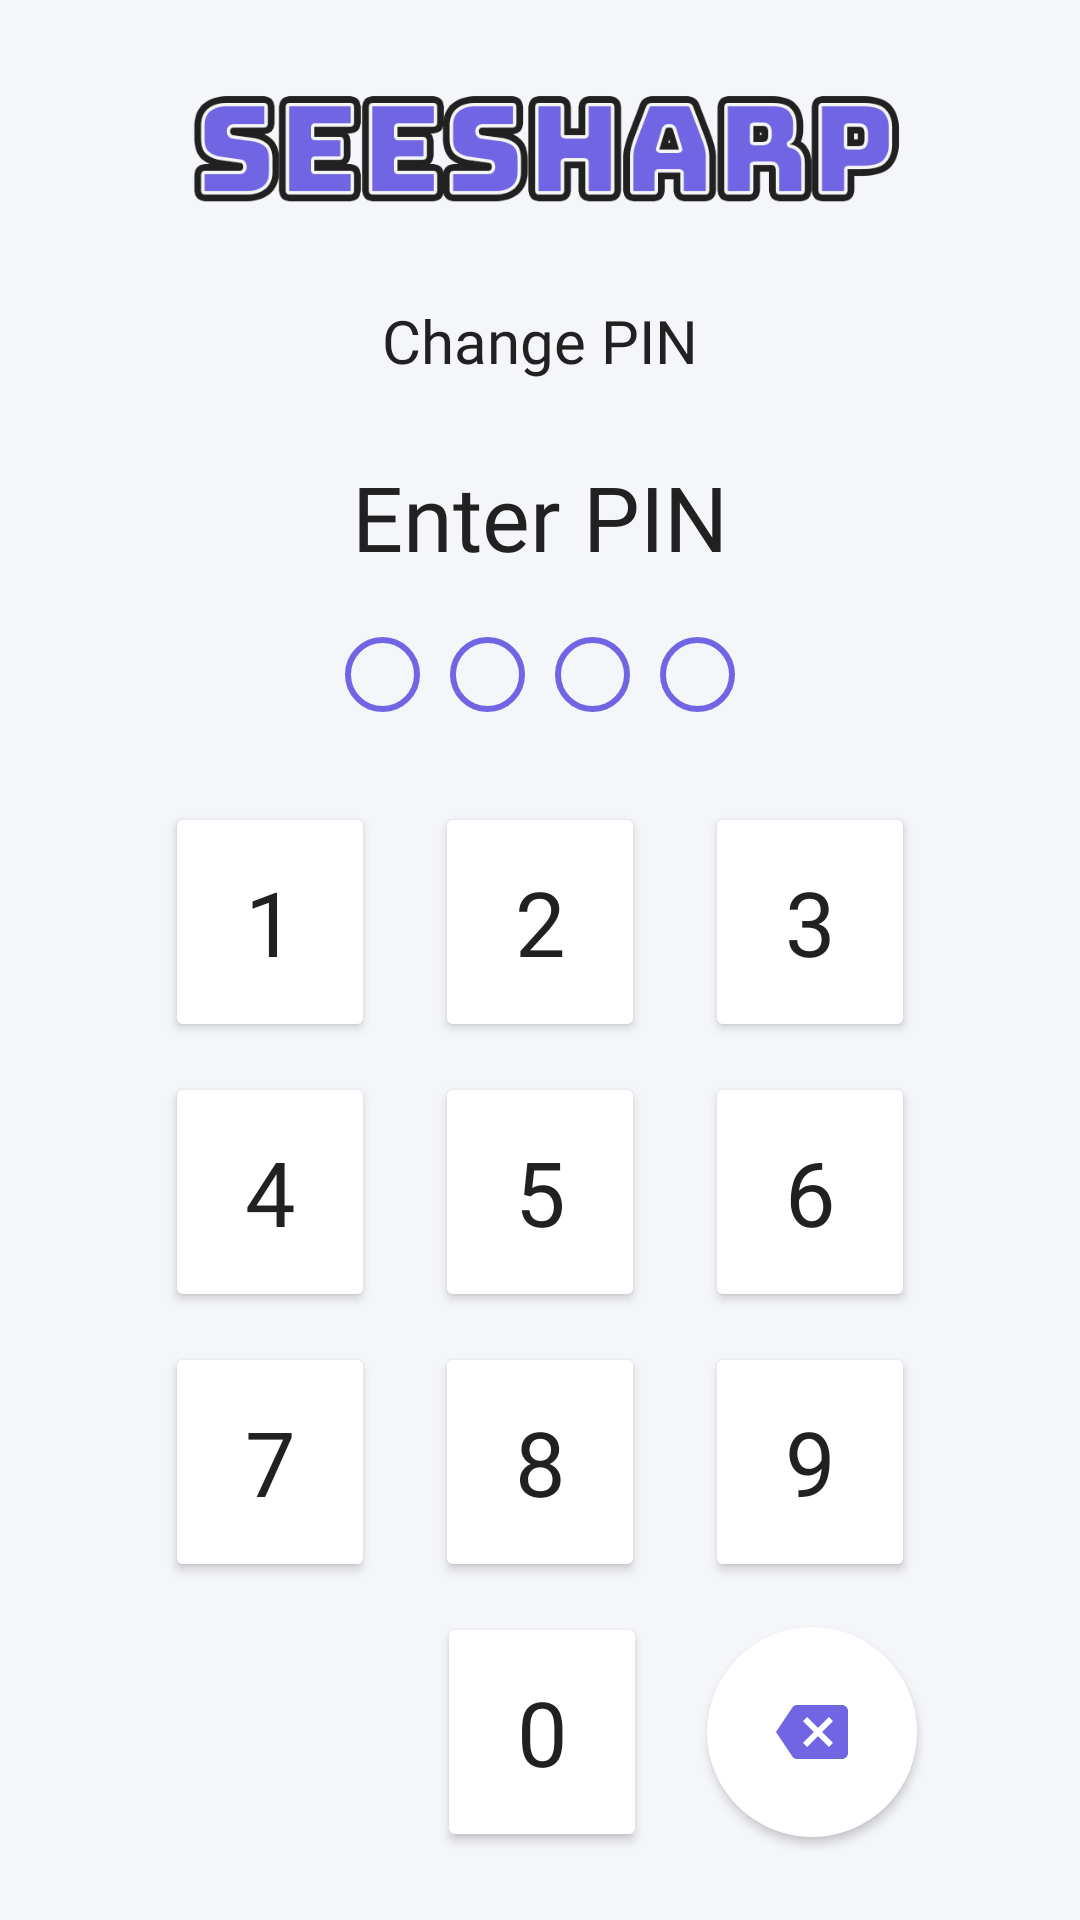

Point at icon controls on the screen. Image size 1080x1920, points as (x,y).
backspace: (812,1732)
